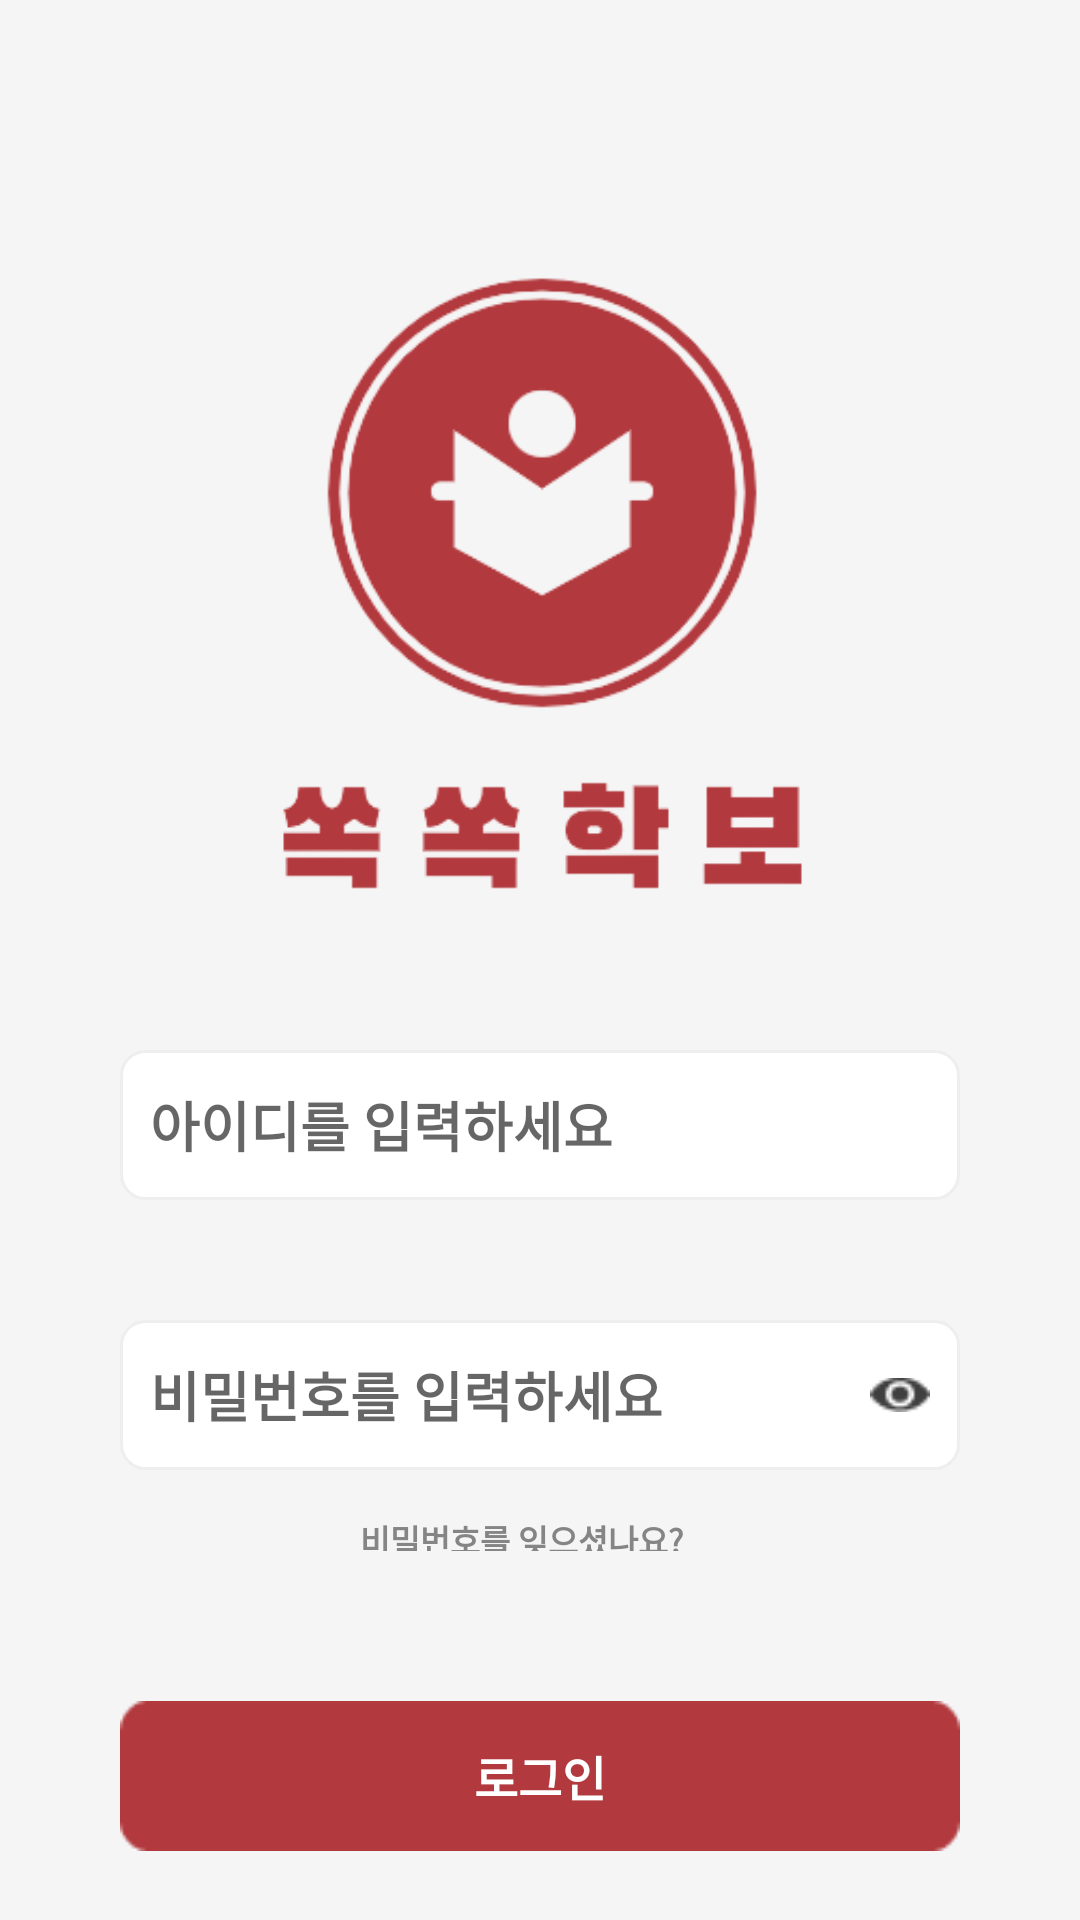

Screen size 1080*1920. Icon name, then its center in pixels as (x=x, y=y):
pwd view: (x=900, y=1395)
